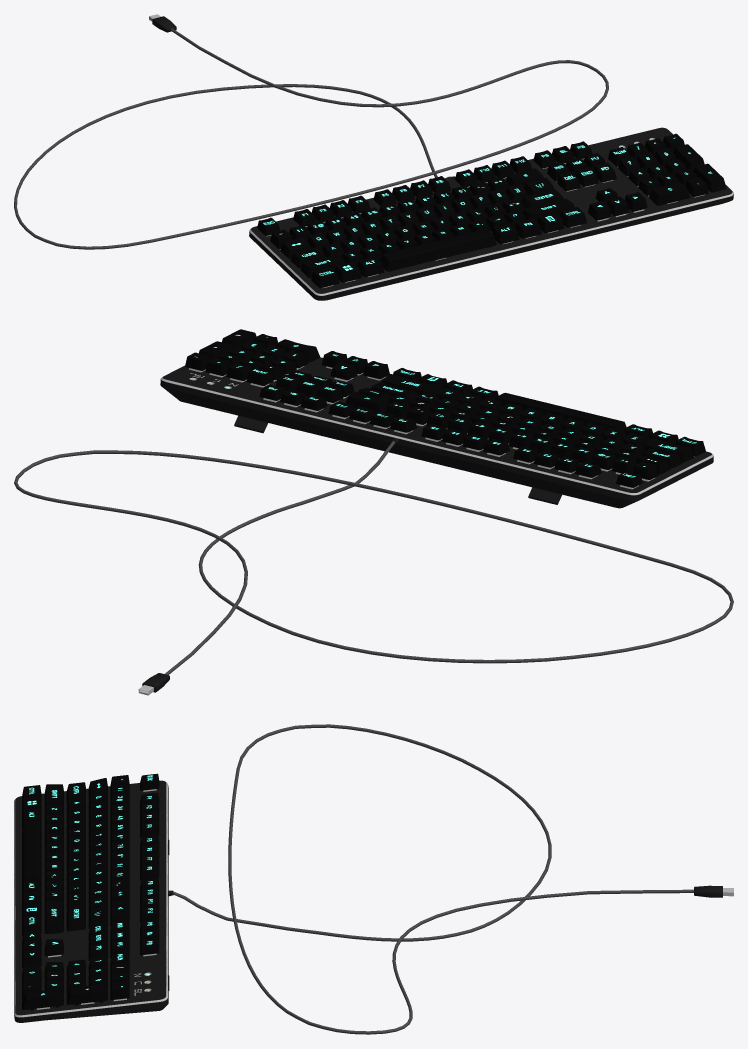
File: keyboard2.glb
3 renders of one model, top to bottom at view 1: azimuth 30°, elevation 25°; view 2: azimuth 150°, elevation 25°; view 3: azimuth 270°, elevation 25°, orthographic. The views are drawn at different scales.
Visible parts, largest first — view 1: keys, keyboard, wire; view 2: keys, keyboard, wire, legs; view 3: keys, keyboard, wire.
Part boxes in pixels (x1,y1,x2,y2): keys: [257, 133, 726, 288]; keyboard: [249, 127, 733, 300]; wire: [14, 28, 608, 249]; keys: [185, 329, 705, 487]; keyboard: [160, 357, 713, 508]; wire: [14, 438, 733, 674]; legs: [234, 415, 561, 504]; keys: [22, 773, 159, 1010]; keyboard: [14, 780, 168, 1022]; wire: [168, 724, 693, 1034].
Bounding box in the file's own units: 57.22 × 3.13 × 55.99.
2 materials, 2 textured.
